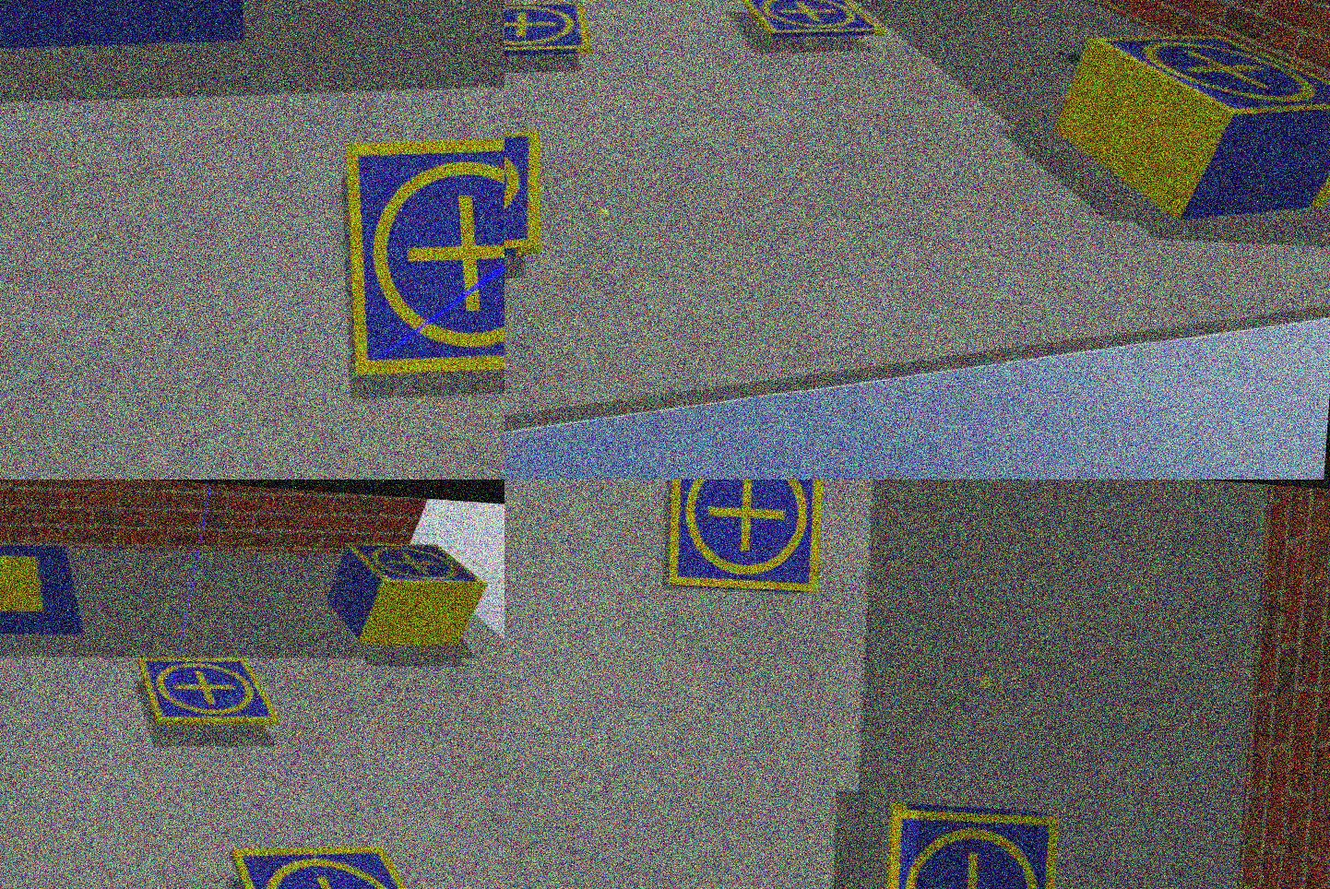large_base: (1, 524, 93, 656)
small_base: (332, 122, 505, 391), (1082, 29, 1330, 129), (662, 480, 829, 598), (880, 802, 1064, 889), (218, 832, 473, 889), (134, 649, 286, 735), (343, 538, 490, 599), (739, 1, 885, 50), (505, 1, 595, 66)
